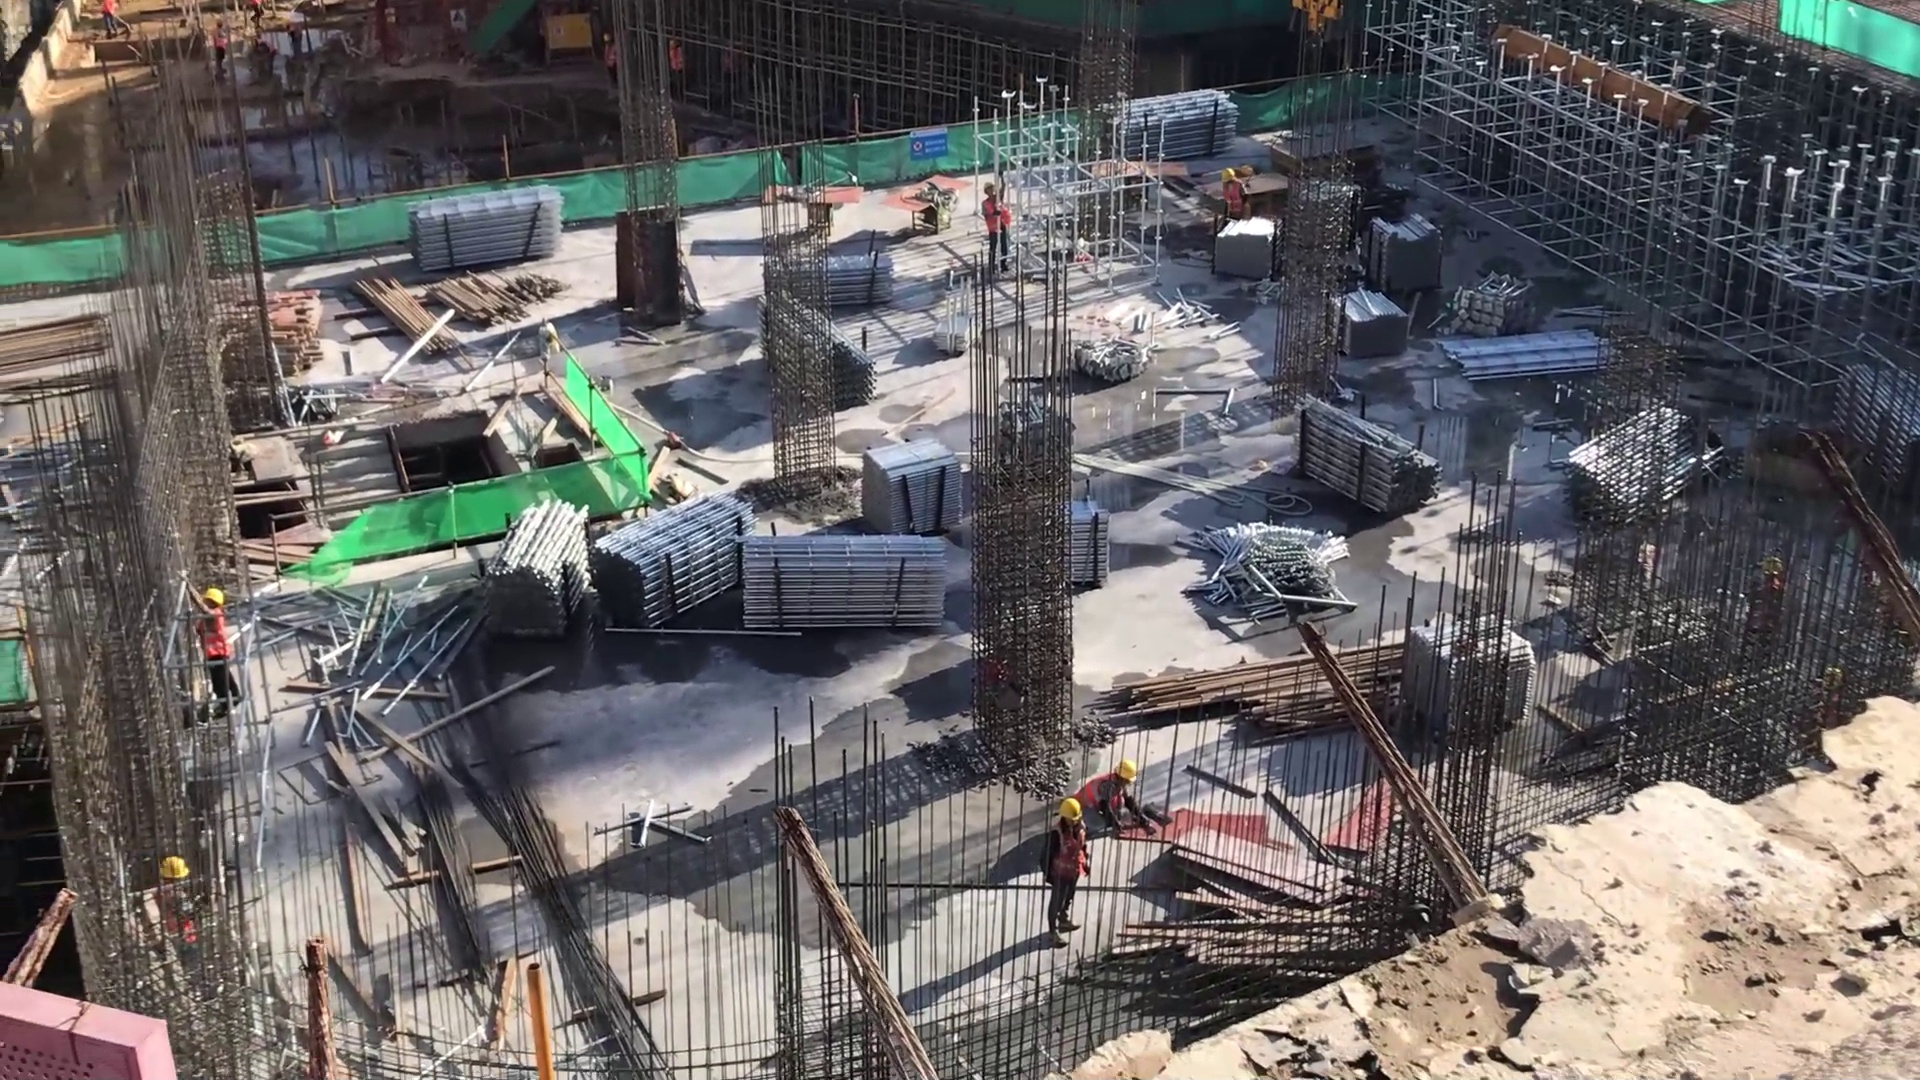cutter: (873, 169, 972, 240), (761, 181, 868, 238)
ebox: (538, 7, 603, 78)
helmet: (1110, 754, 1144, 788), (193, 586, 230, 610), (159, 854, 191, 882), (1054, 798, 1085, 822), (1220, 161, 1235, 186), (983, 177, 1000, 193)
hook: (1295, 1, 1343, 67)
person: (174, 572, 251, 721), (1033, 794, 1098, 937), (1067, 750, 1152, 845), (144, 851, 204, 971), (978, 173, 1016, 269), (1210, 161, 1252, 233)
scaffold: (589, 483, 765, 644), (727, 522, 955, 641), (1277, 381, 1447, 523), (471, 491, 610, 652), (402, 176, 573, 285), (858, 430, 965, 539), (1119, 83, 1244, 168), (1361, 207, 1455, 301), (1331, 280, 1421, 362), (821, 244, 905, 312), (1210, 214, 1290, 280)
vest: (1043, 820, 1090, 884), (157, 886, 198, 944), (1079, 772, 1126, 815), (196, 605, 234, 661), (977, 193, 1016, 229), (1222, 188, 1246, 220)
